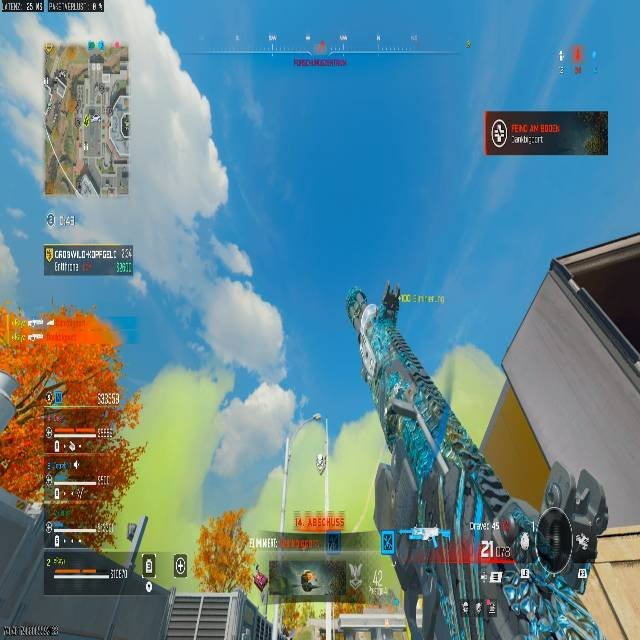player: (301, 570, 315, 592), (279, 625, 293, 639)
